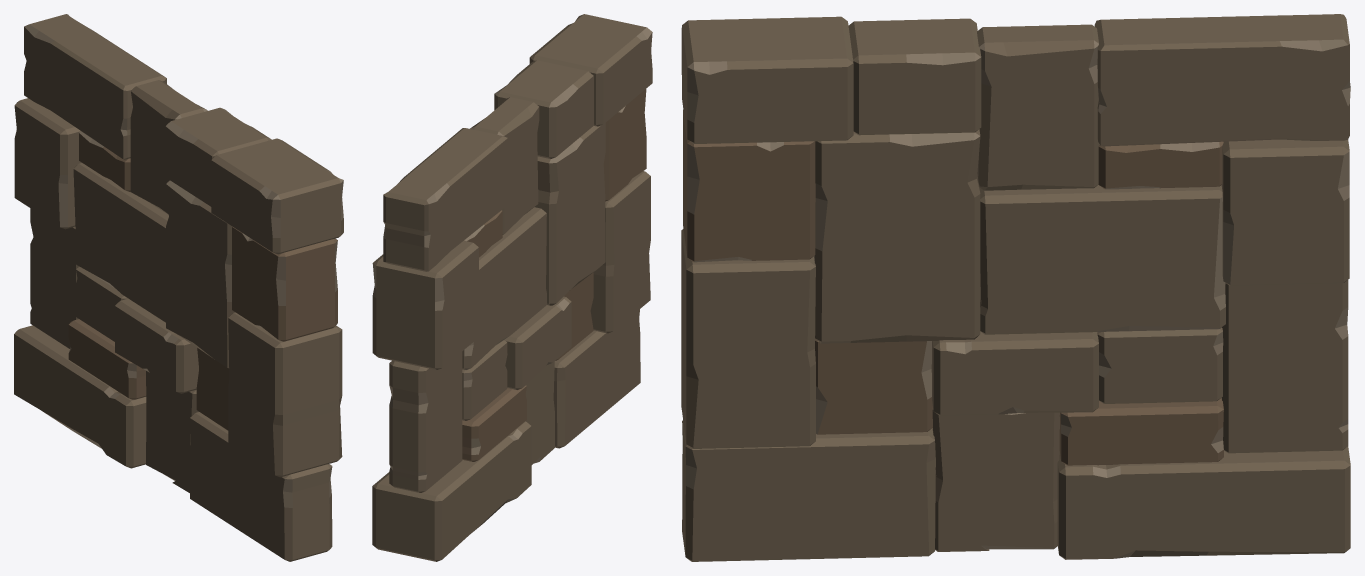
The model's file is chamber_wall_west_6_lev3.glb.
3 renders of one model, left to right at view 1: azimuth 30°, elevation 25°; view 2: azimuth 150°, elevation 25°; view 3: azimuth 270°, elevation 25°, orthographic. The views are drawn at different scales.
Visible parts, largest first — view 1: chamber_wall_west_6_lev3; view 2: chamber_wall_west_6_lev3; view 3: chamber_wall_west_6_lev3.
Boxes of the visible parts, x1=… form: chamber_wall_west_6_lev3: x1=14, y1=14, x2=343, y2=561; chamber_wall_west_6_lev3: x1=372, y1=14, x2=652, y2=561; chamber_wall_west_6_lev3: x1=681, y1=14, x2=1350, y2=561.
Bounding box in the file's own units: 1.6 × 5.96 × 7.12.
